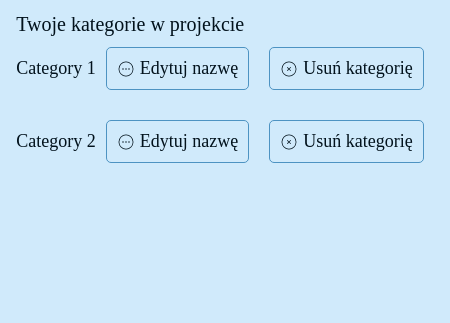
ProjectCategoriesList component › Should render CategoryForm component properly if isActive
Click the button "Edytuj nazwę" next to "Category 1" at (178, 68), box [106,47,249,90]
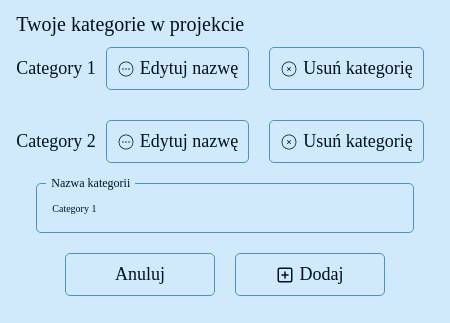
Expected: the form is shown, [16,183,434,306]
